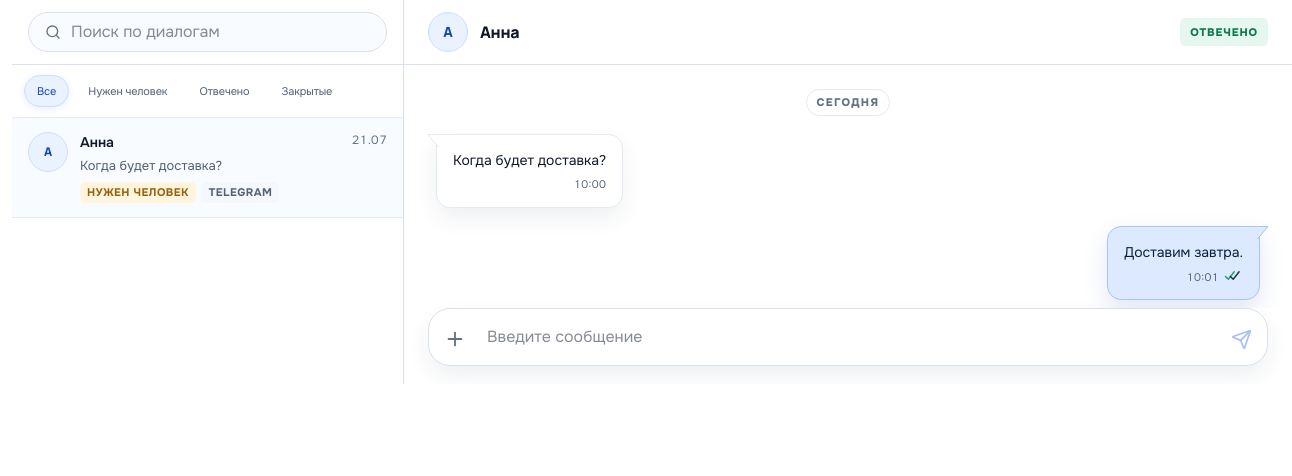
Test case: InboxPage live actions › never removes the outgoing bubble while its pending state is confirmed
Expected: the heading "Анна" is shown, x1=480 y1=20 x2=519 y2=44
In the text box with placeholder "Введите сообщение": x=848, y=337 x1=481 y1=315 x2=1215 y2=359, type "No transient receipt gap"
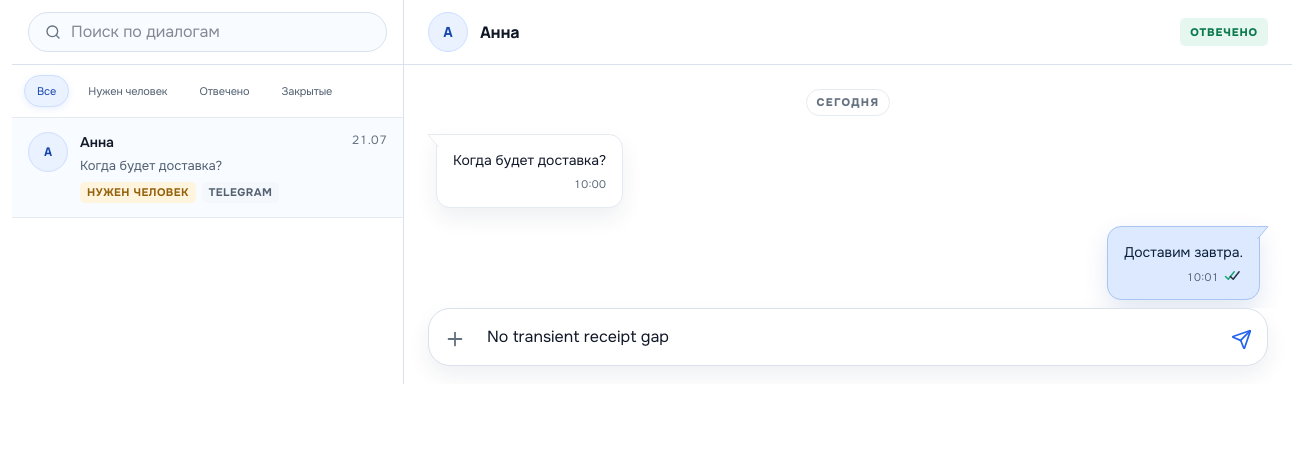
Submit the form with test id "inbox-composer-region", box x1=404 y1=308 x2=1291 y2=384
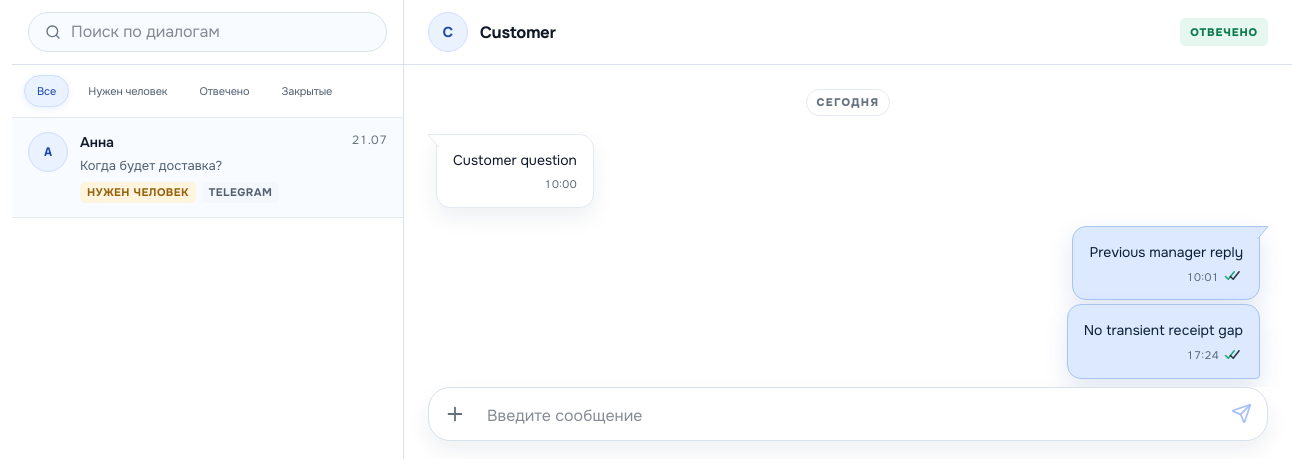
Expected: the text "No transient receipt gap" is shown, x1=1084 y1=319 x2=1243 y2=342
Expected: the element named "Отправлено" next to "17:24" is shown, x1=1223 y1=348 x2=1243 y2=364
